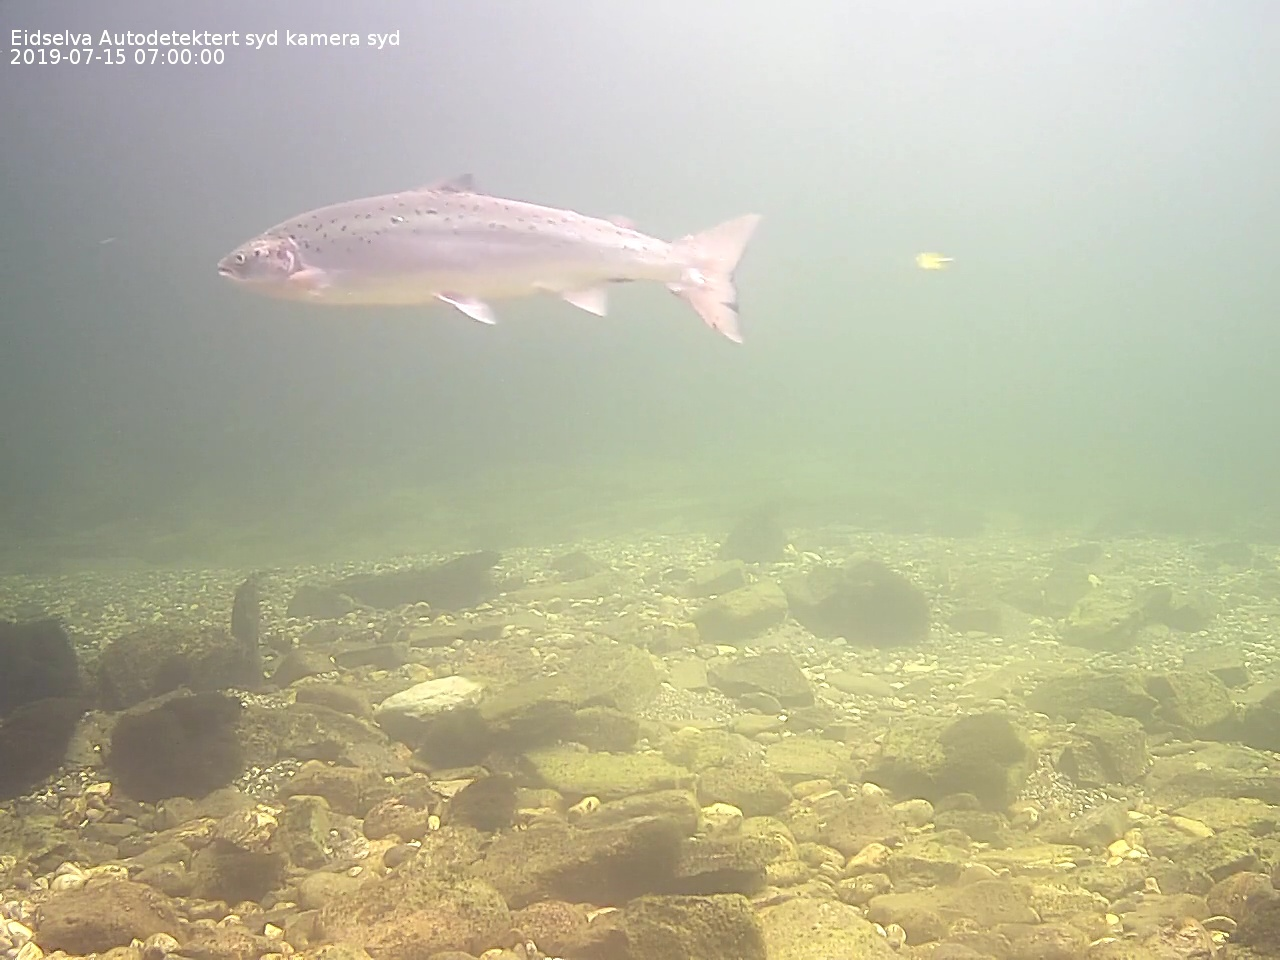salmon: (208, 167, 773, 354)
